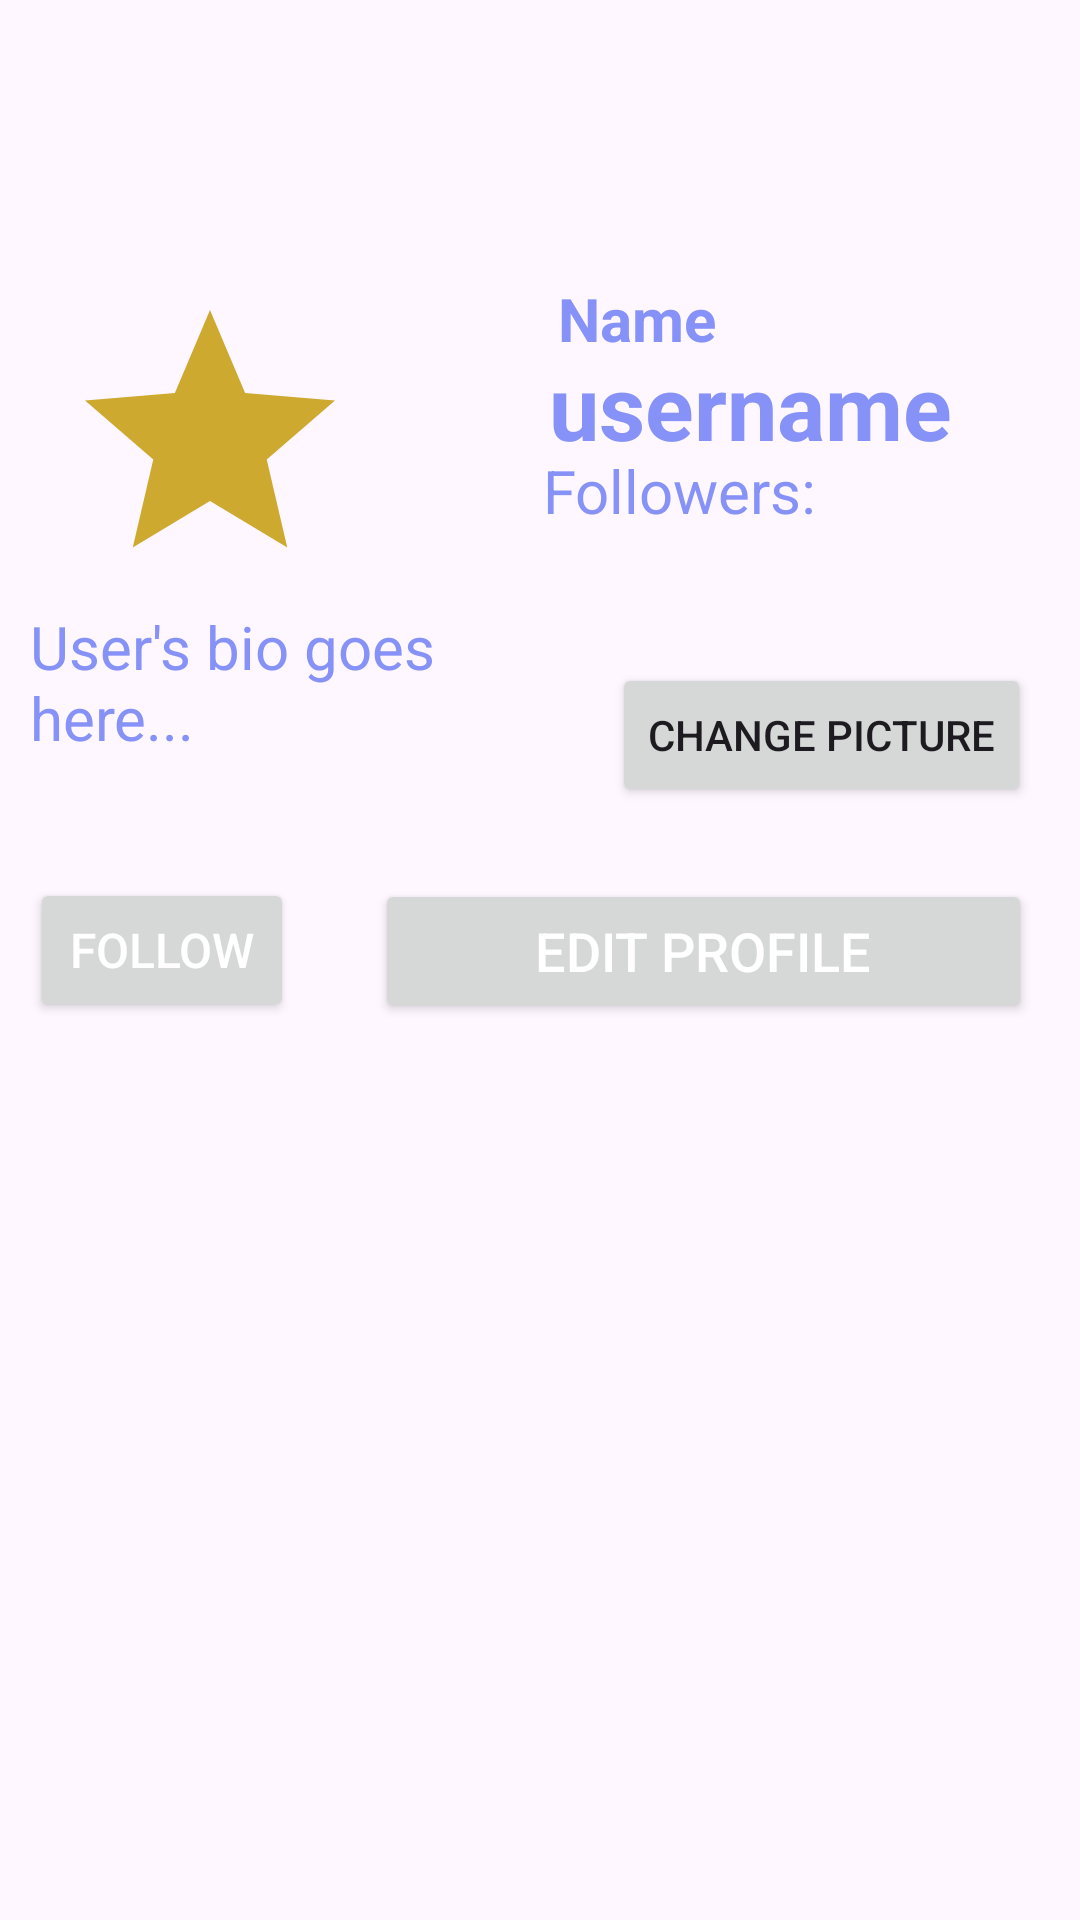

Screen size 1080 × 1920. Icon name, then its box in pixels as (x1, y1, x2, y2):
star: (85, 310, 335, 547)
